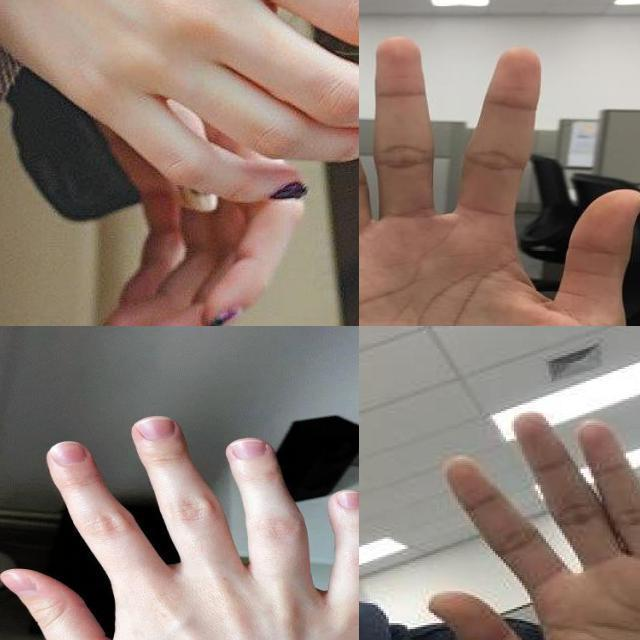hand: (359, 34, 640, 326), (0, 413, 359, 640), (0, 0, 359, 206), (426, 409, 640, 640)
